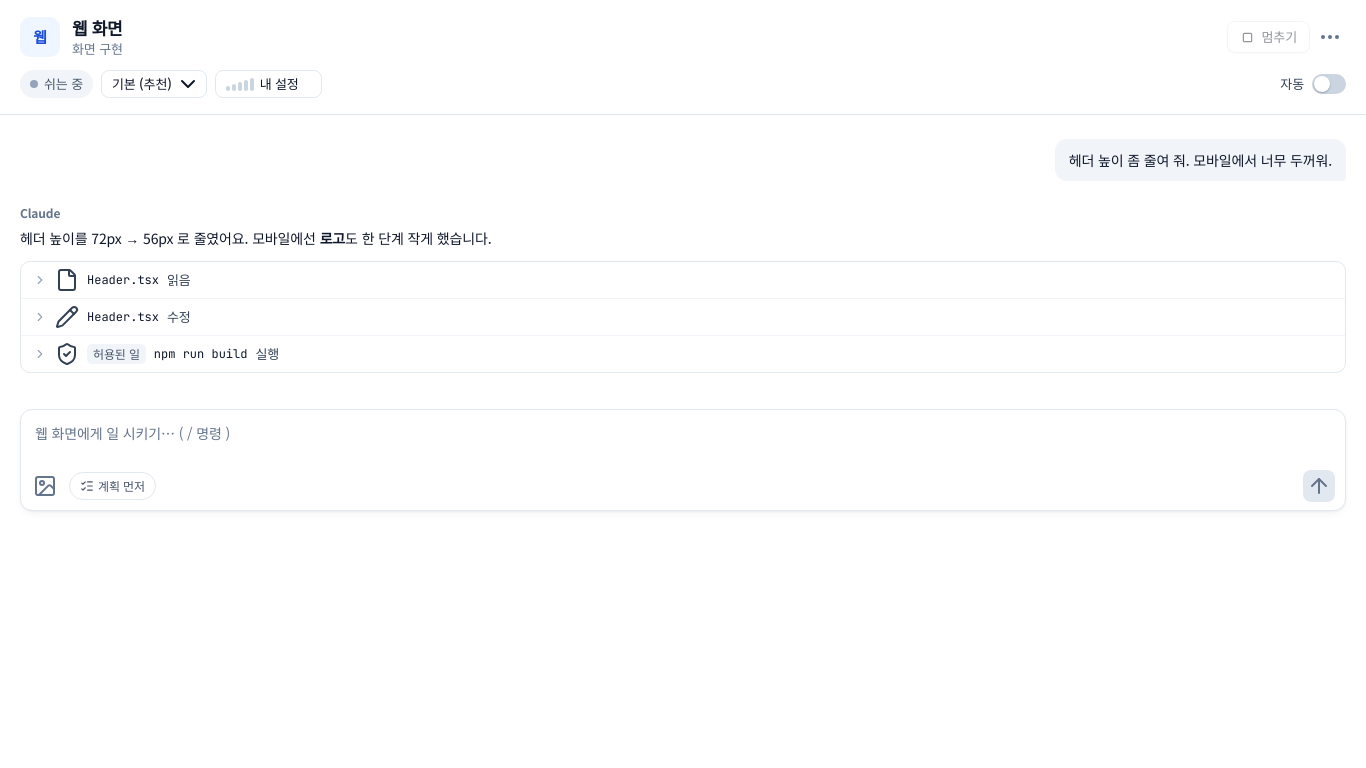
Test: ChatList — 줄마다 › 누르면 출력이 펼쳐진다 — 다시 누르면 접힌다
Step 1. Click the button "허용된 일 npm run build 실행" → (116, 354), box [21,336,1345,372]
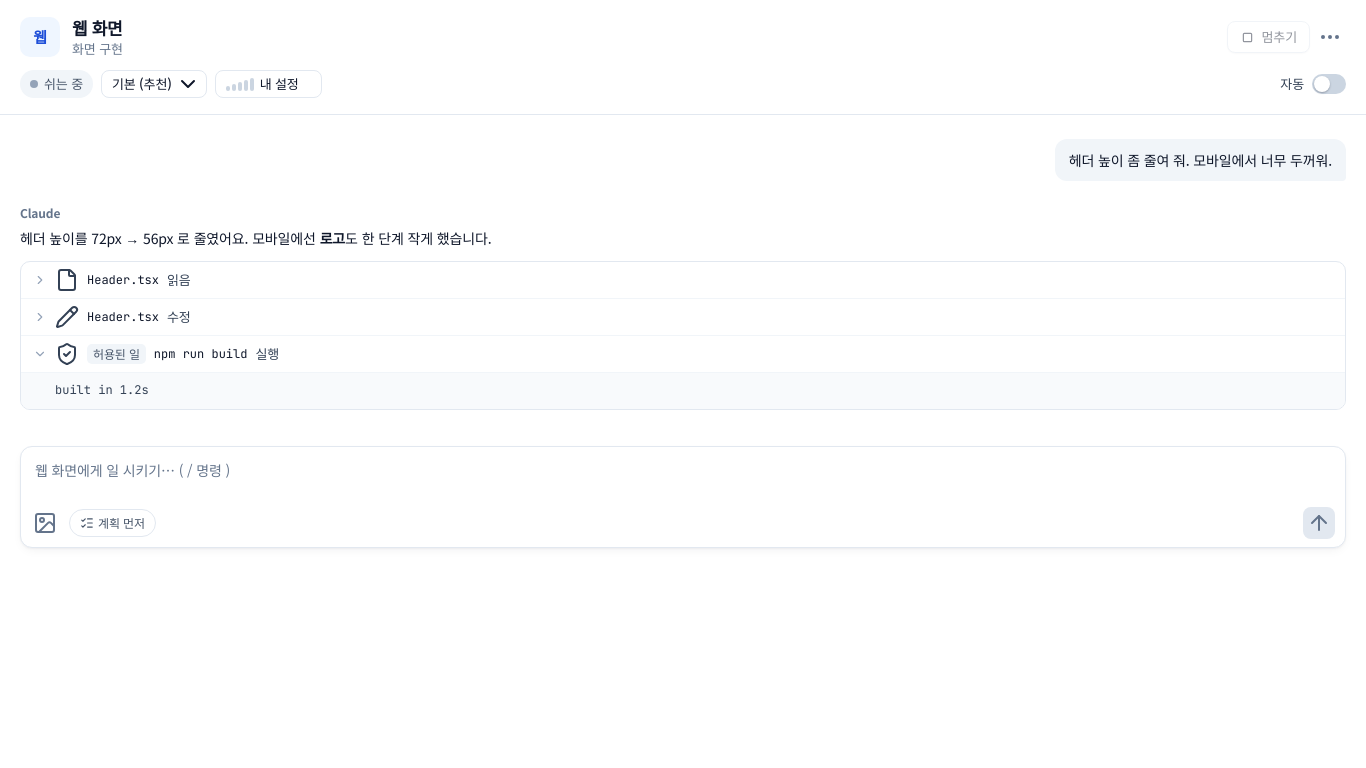
expect the text "built in 1.2s" is shown: met, box [55,382,149,398]
Step 2. Click the button "허용된 일 npm run build 실행" → (116, 354), box [21,336,1345,372]
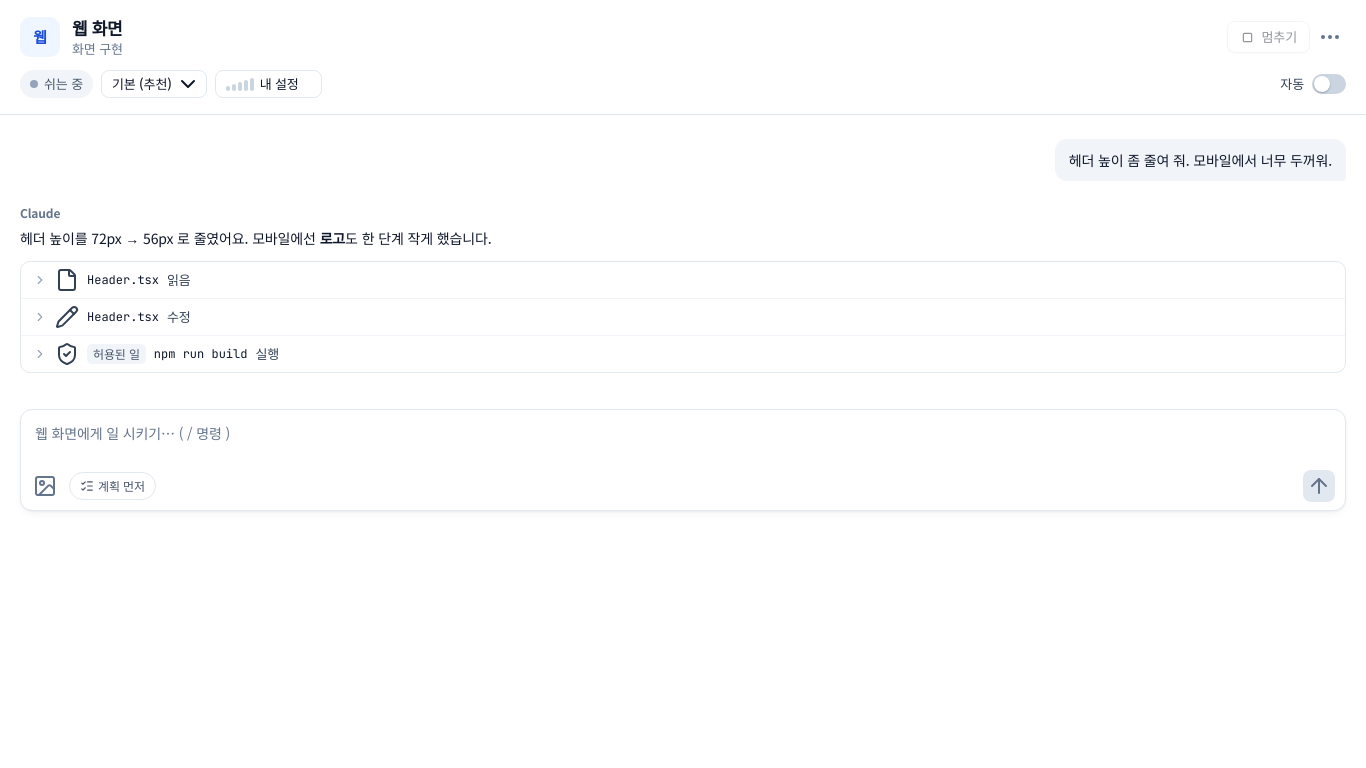
expect the text "built in 1.2s" is gone: met
